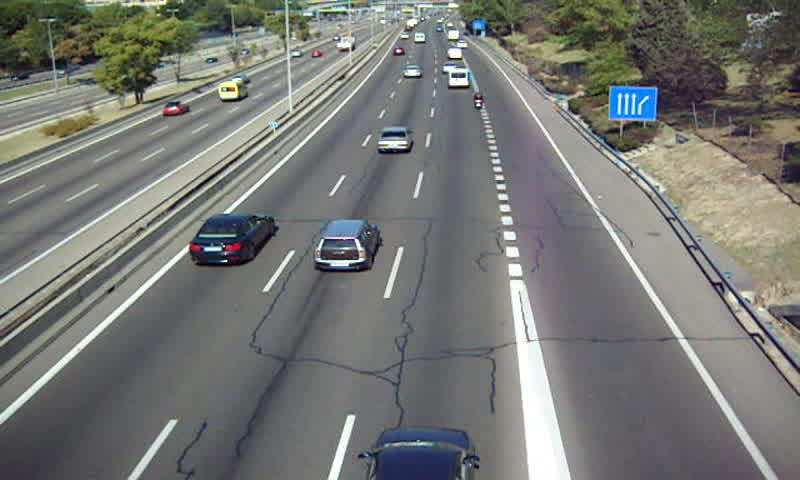car: (187, 214, 273, 266), (313, 219, 380, 269), (378, 126, 413, 152), (404, 64, 421, 78)
motorcycle: (473, 90, 485, 109)
van: (448, 68, 470, 89), (449, 49, 464, 60)
